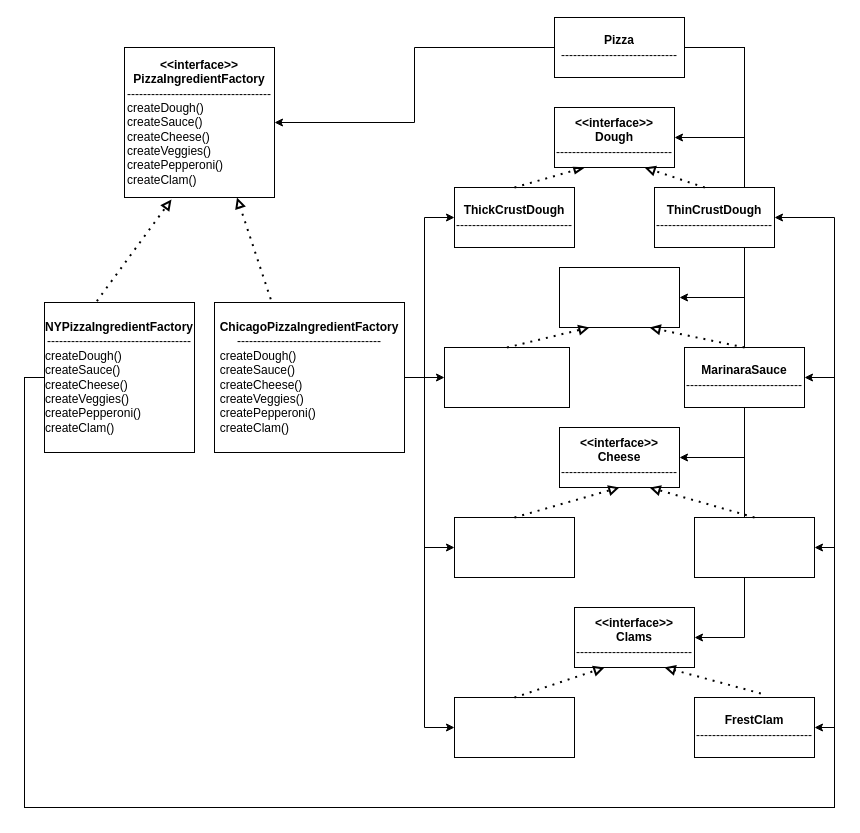
The diagram is 860 pixels wide and 833 high, and some of its shapes have lost their labels. Each missing label, with the box of its shape:
<<interface>> Sauce -----------------------------: (558, 266, 680, 328)
FrozenClam -----------------------------: (454, 696, 574, 758)
MozzarellaCheese -----------------------------: (454, 516, 574, 578)
PlumTomatoSauce -----------------------------: (444, 346, 570, 408)
ReggianoCheese -----------------------------: (694, 516, 814, 578)
